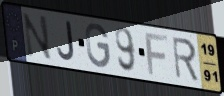9: (114, 27, 138, 74)
F: (143, 32, 170, 78)
G: (84, 22, 111, 70)
J: (56, 20, 77, 63)
N: (21, 11, 53, 62)
R: (170, 36, 201, 84)
